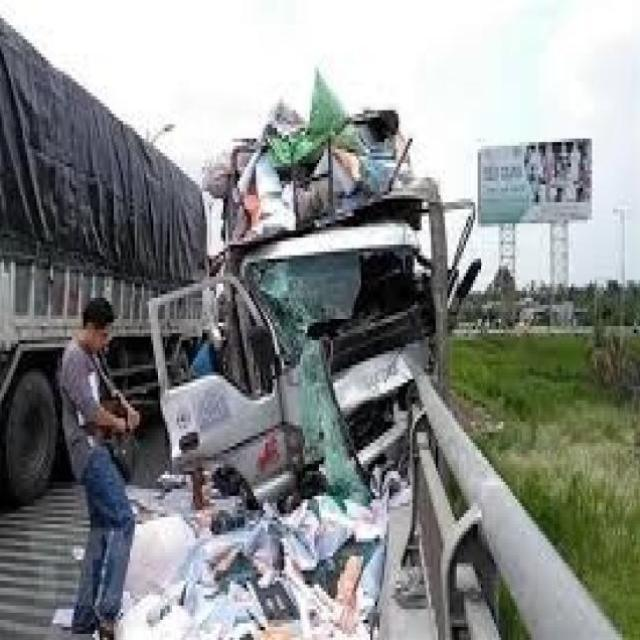accident: (143, 75, 487, 509)
